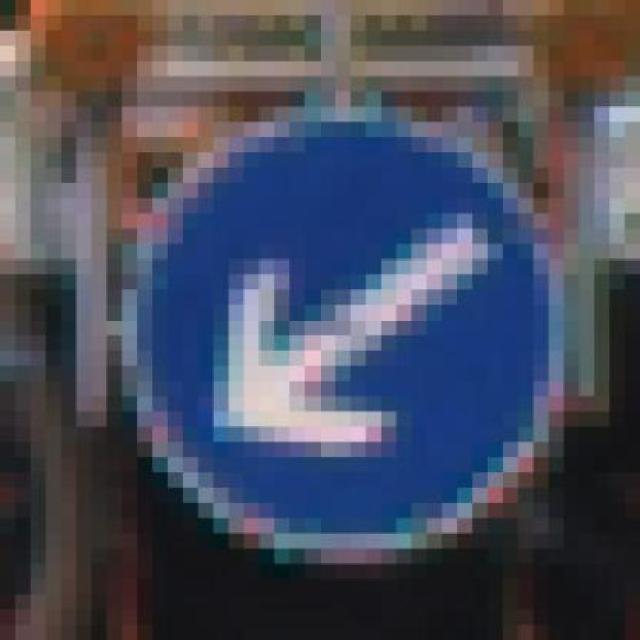Keep-Left: (92, 61, 579, 594)
